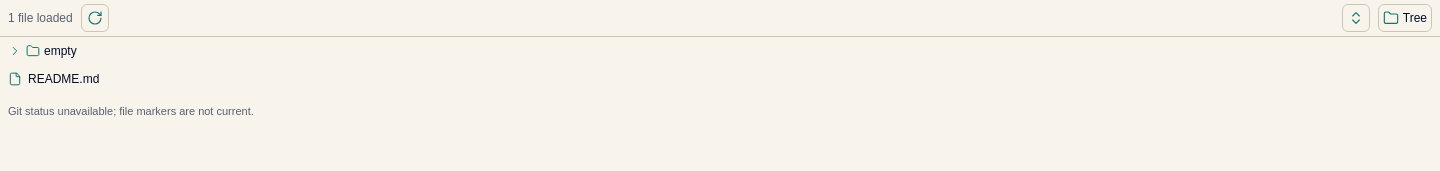
it: sidebar distinguishes no known changes from unavailable status (ready: false)
Hover over the button with aria-label "Expand empty" at (60, 51), box x1=4 y1=37 x2=1436 y2=65
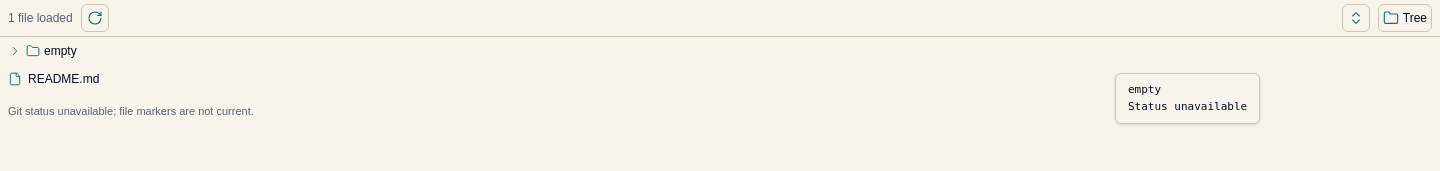
Check: the tooltip shows "Status unavailable", box x1=1128 y1=100 x2=1247 y2=112
Move the pointer off the button with aria-label "Expand empty", box x1=4 y1=37 x2=1436 y2=65
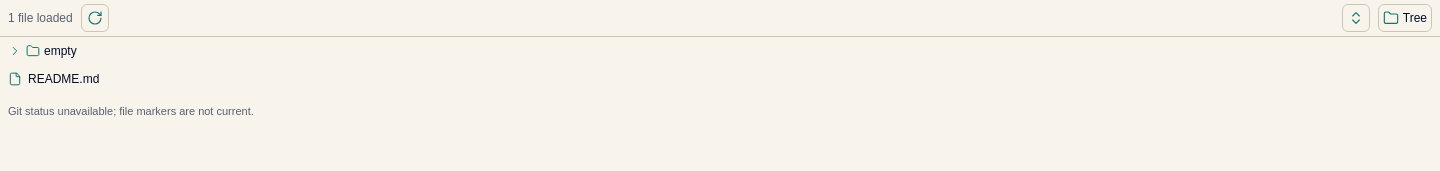
Hover over the button with aria-label "Review README.md" at (64, 79), box x1=4 y1=65 x2=1436 y2=93
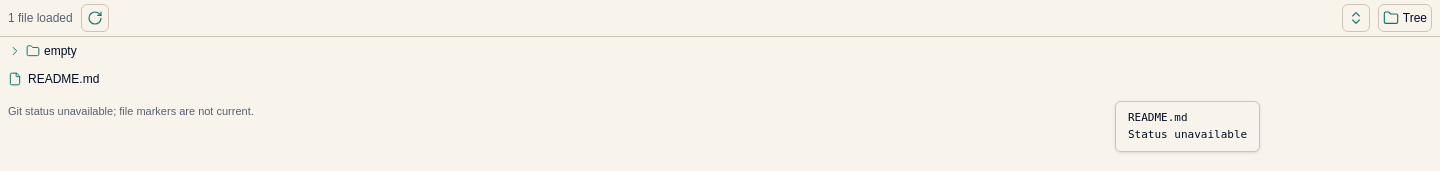
Check: the tooltip shows "README.md", box x1=1128 y1=111 x2=1188 y2=124
Check: the tooltip shows "Status unavailable", box x1=1128 y1=128 x2=1247 y2=140
